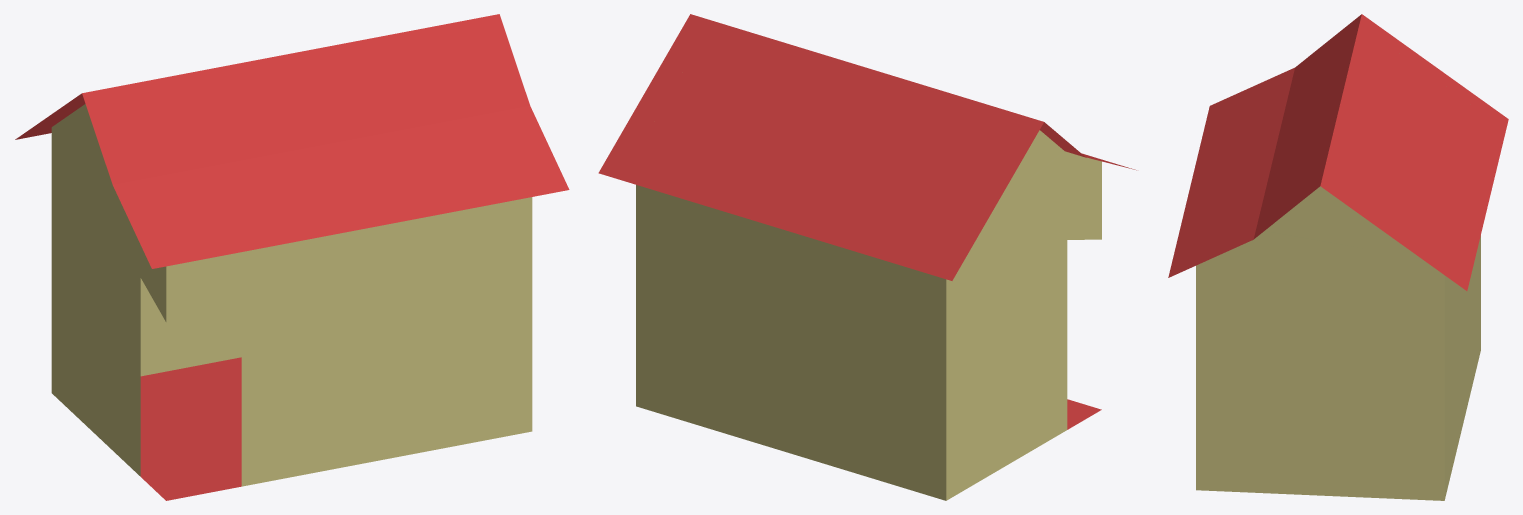
3 renders of one model, left to right at view 1: azimuth 30°, elevation 25°; view 2: azimuth 150°, elevation 25°; view 3: azimuth 270°, elevation 25°, orthographic. The views are drawn at different scales.
Size of the model in its own units: 17.31 by 13.46 by 13.96.
